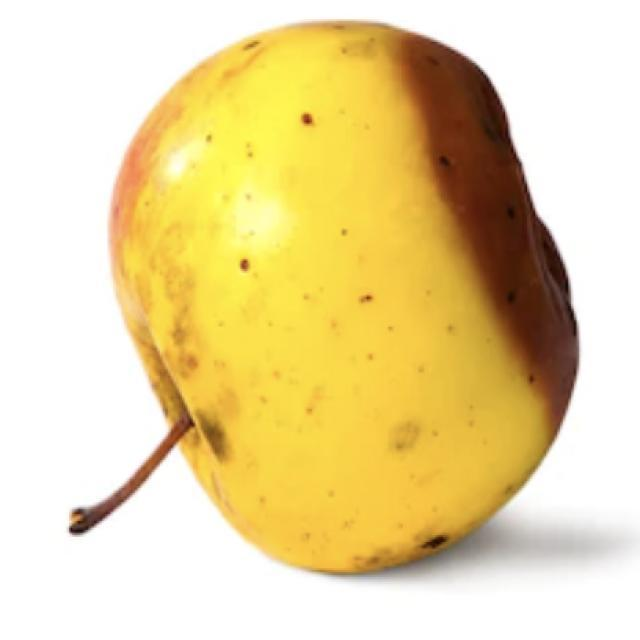Rotten: (130, 30, 582, 565)
